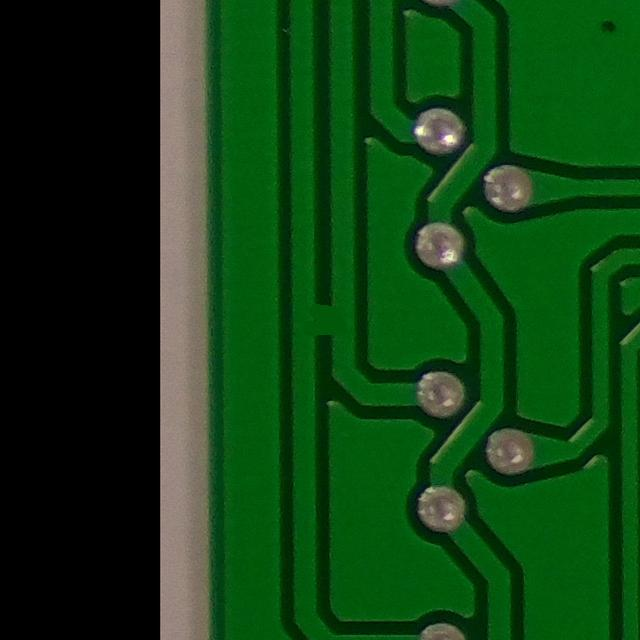short: (281, 289, 358, 351)
